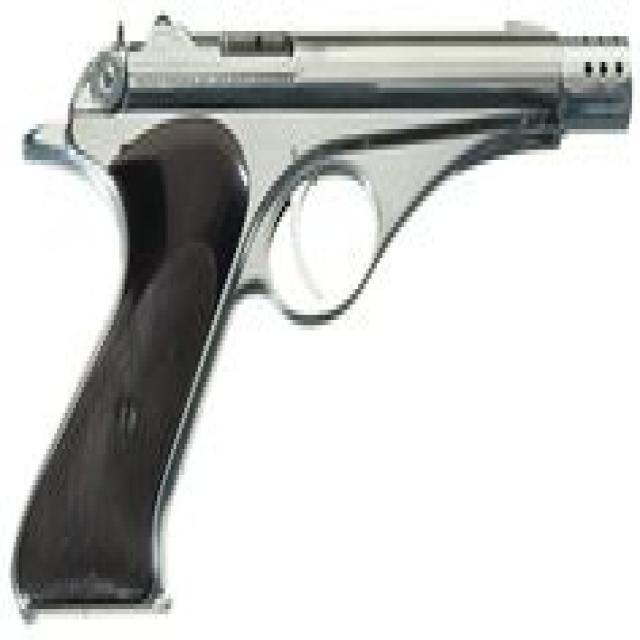semi automatic: (7, 0, 635, 616)
